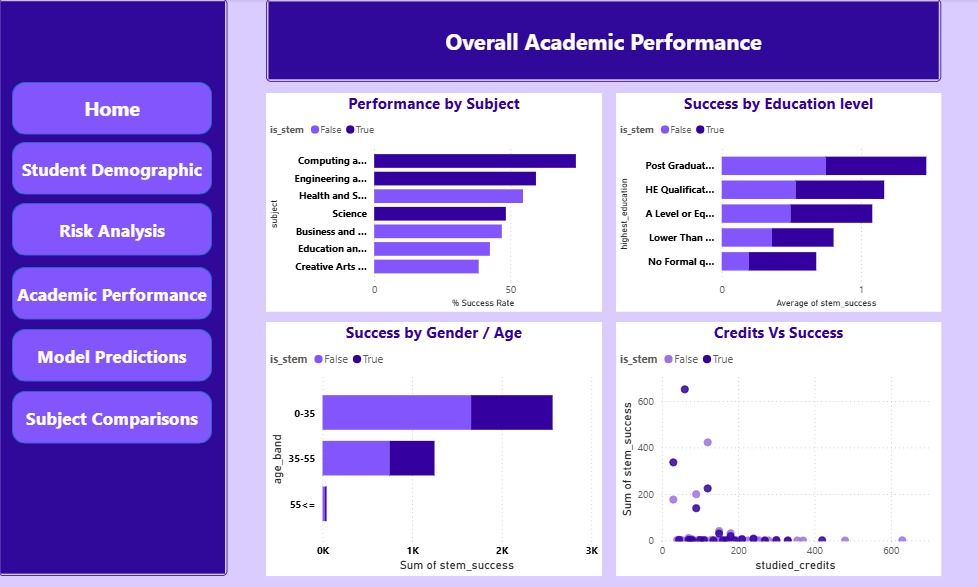

Layout of this report page (visuals, bound fields, positions):
{"tool":"powerbi","page":{"name":"Academic Performance","canvas":[1280,720],"ordinal":3},"visuals":[{"type":"shape","box":[0,0,280,704.3],"z":0},{"type":"shape","box":[327.1,0,824.3,101.4],"z":1000},{"type":"barChart","title":"Performance by Subject","fields":{"Category":["performance_by_subject.subject"],"Y":["Sum(performance_by_subject.success_rate)"],"Series":["performance_by_subject.is_stem"]},"box":[327.1,114.3,410,267.1],"z":2000},{"type":"barChart","title":"Success by Education level","fields":{"Category":["studentInfo_for_powerbi.highest_education"],"Y":["Avg(studentInfo_for_powerbi.stem_success)"],"Series":["studentInfo_for_powerbi.is_stem"]},"box":[754.3,114.3,397.1,267.1],"z":3000},{"type":"barChart","title":"Success by Gender / Age","fields":{"Category":["studentInfo_for_powerbi.age_band","studentInfo_for_powerbi.gender"],"Series":["studentInfo_for_powerbi.is_stem"],"Y":["Sum(studentInfo_for_powerbi.stem_success)"]},"box":[327.1,394.3,410,310],"z":4000},{"type":"scatterChart","title":"Credits Vs Success","fields":{"Series":["studentInfo_for_powerbi.is_stem"],"Y":["Sum(studentInfo_for_powerbi.stem_success)"],"X":["studentInfo_for_powerbi.studied_credits"]},"box":[754,394,397,310],"z":5000},{"type":"shape","box":[17.1,101.4,244.3,64.3],"z":6000},{"type":"shape","box":[17.1,174.3,244.3,64.3],"z":7000},{"type":"shape","box":[17.1,478.6,244.3,64.3],"z":8000},{"type":"shape","box":[17.1,402.9,244.3,64.3],"z":9000},{"type":"shape","box":[17.1,327.1,244.3,64.3],"z":10000},{"type":"shape","box":[17.1,248.6,244.3,64.3],"z":11000}]}

Visuals, with their boxes on the page's 1280x720 design canvas (x1, y1, x2, y2). These are canvas units, not pixel positions in the 978x587 screenshot, which may show the page scaled, cropped or inside an application window:
shape: <region>0, 0, 280, 704</region>
shape: <region>327, 0, 1151, 101</region>
"Performance by Subject" barChart: <region>327, 114, 737, 381</region>
"Success by Education level" barChart: <region>754, 114, 1151, 381</region>
"Success by Gender / Age" barChart: <region>327, 394, 737, 704</region>
"Credits Vs Success" scatterChart: <region>754, 394, 1151, 704</region>
shape: <region>17, 101, 261, 166</region>
shape: <region>17, 174, 261, 239</region>
shape: <region>17, 479, 261, 543</region>
shape: <region>17, 403, 261, 467</region>
shape: <region>17, 327, 261, 391</region>
shape: <region>17, 249, 261, 313</region>
